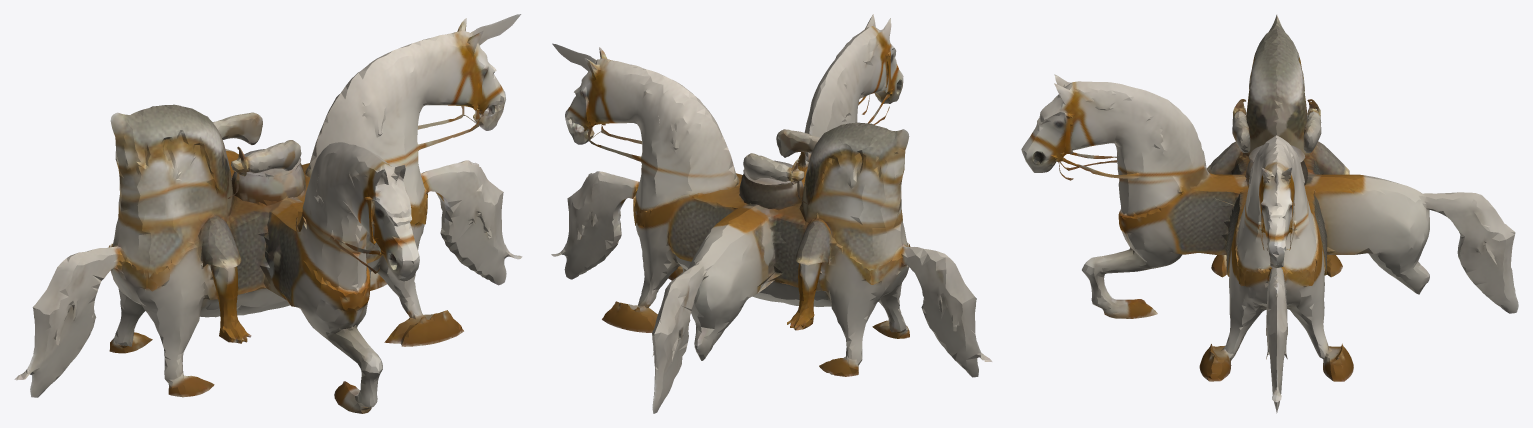
File: human_cavalry.glb
3 renders of one model, left to right at view 1: azimuth 30°, elevation 25°; view 2: azimuth 150°, elevation 25°; view 3: azimuth 270°, elevation 25°, orthographic. The views are drawn at different scales.
Parts seen in each view (by area): view 1: human_cavalry; view 2: human_cavalry; view 3: human_cavalry.
Part boxes in pixels (x1=…): human_cavalry: x1=14, y1=14, x2=522, y2=413; human_cavalry: x1=551, y1=14, x2=992, y2=413; human_cavalry: x1=1021, y1=14, x2=1518, y2=413.
Bounding box in the file's own units: 1.88 × 0.9475 × 1.81.
Materials: 1 (1 with a texture image).
